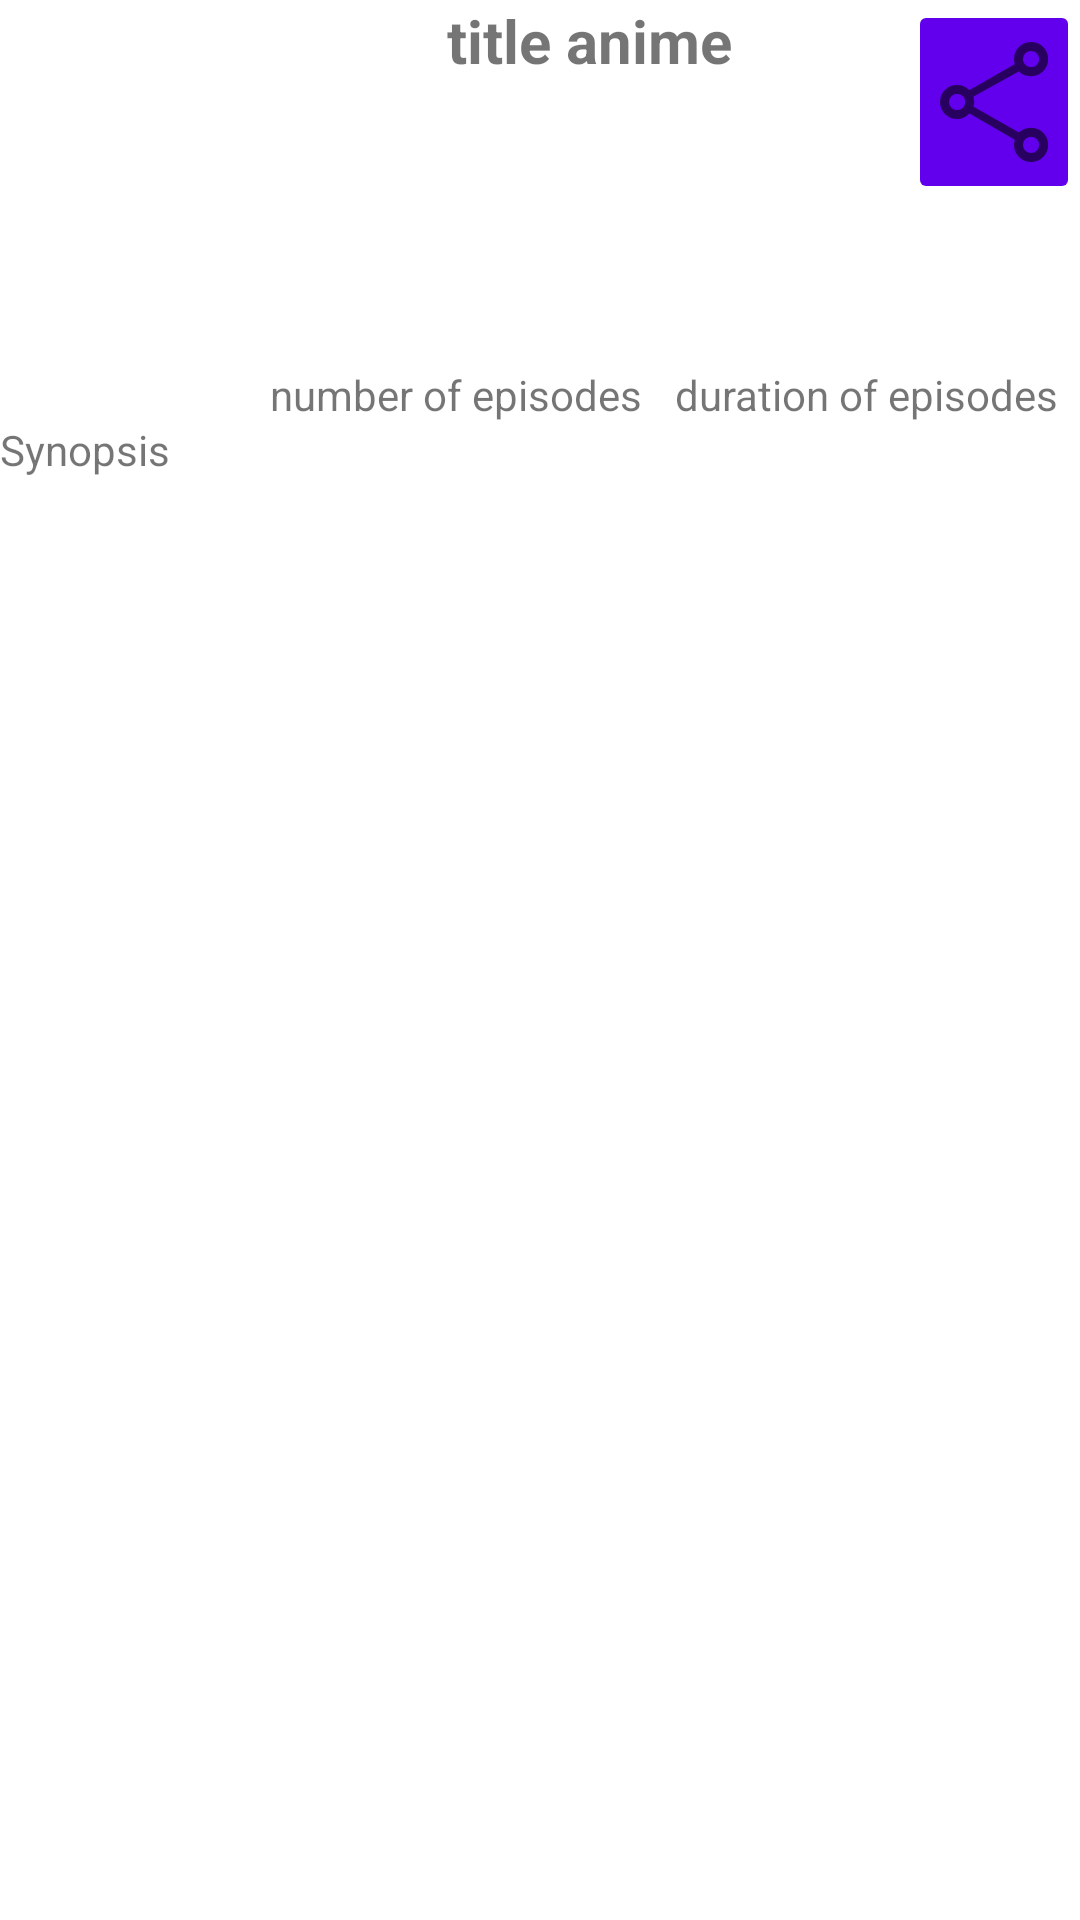

Locate icon controls on the screen. Image size 1080w x 1920h, boxes as bbox(x1, y1, x2, y2).
share: bbox(920, 18, 1068, 186)
